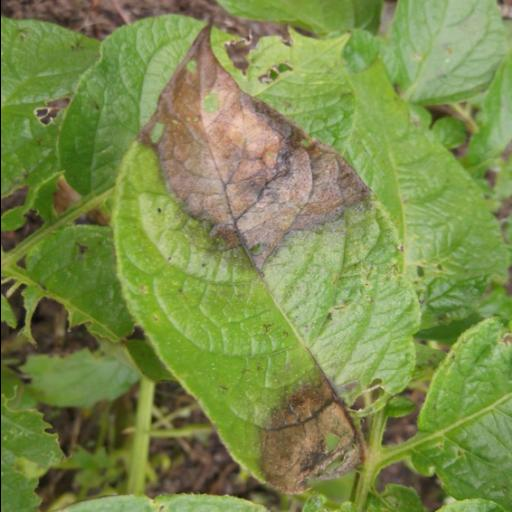Late Blight: (106, 26, 420, 496)
